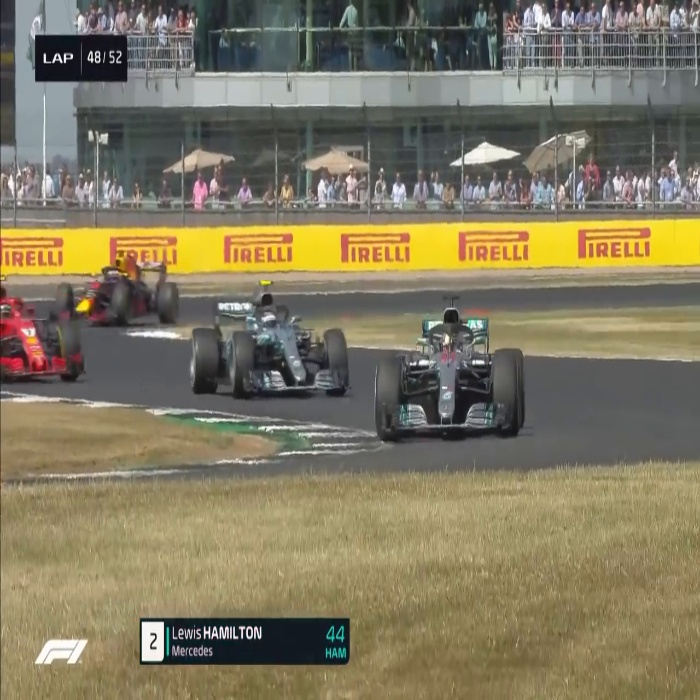f1_car: (365, 296, 541, 444), (177, 286, 356, 404), (50, 249, 180, 328)
